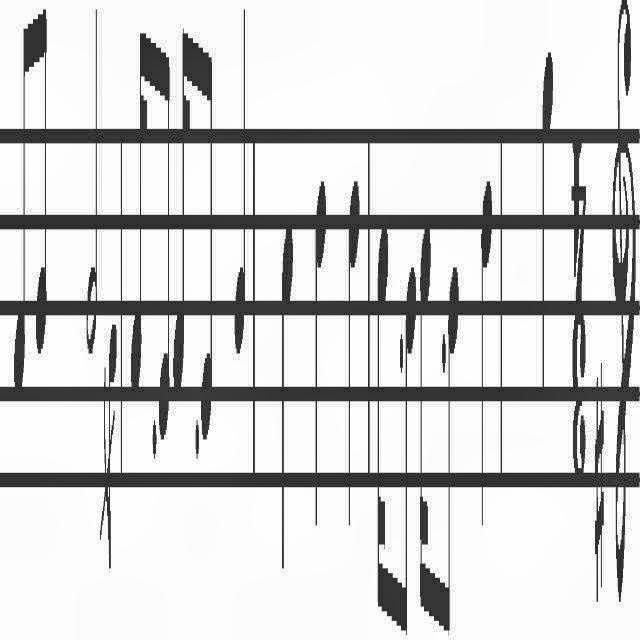Bass-clef: (611, 0, 637, 620)
Diez: (594, 350, 604, 614)
Eighth-note: (13, 0, 32, 408), (402, 251, 418, 637), (199, 35, 213, 443), (158, 48, 172, 440), (447, 258, 461, 640), (36, 0, 49, 368)
Half-note: (85, 0, 98, 370)
Quarter-note: (480, 162, 494, 548), (313, 168, 327, 548), (347, 163, 361, 542), (233, 0, 247, 372), (540, 51, 554, 417), (282, 204, 294, 596)
Sixteenth-note: (129, 16, 149, 404), (172, 26, 192, 404), (376, 220, 390, 614)
